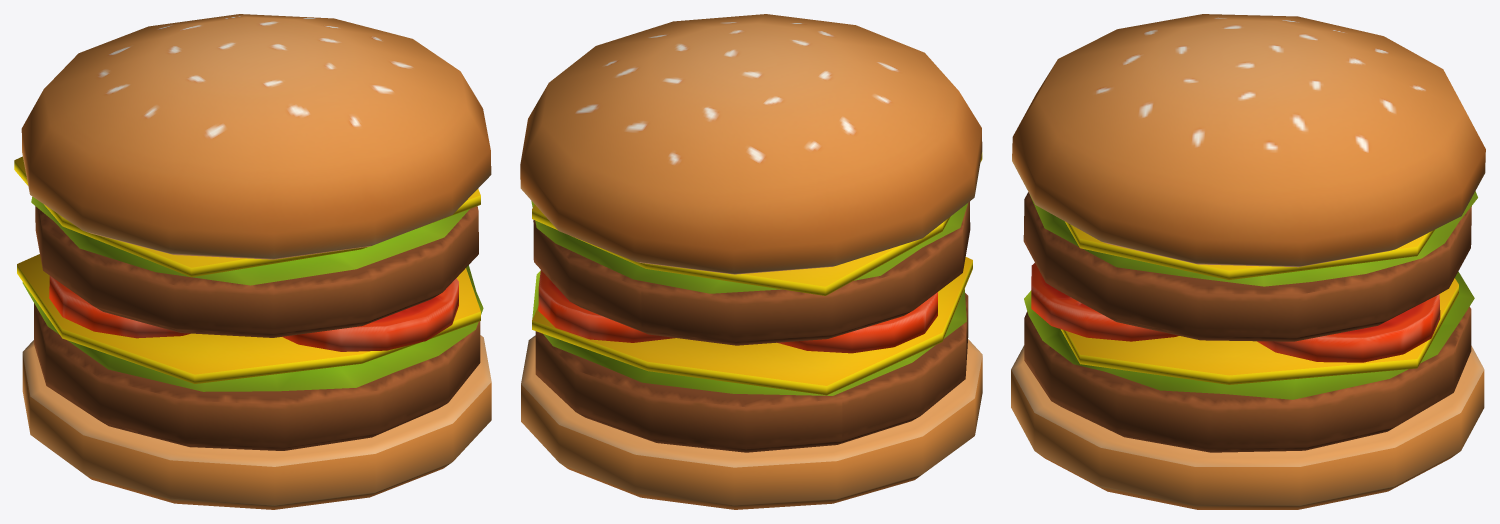
Rendered from Hambuger.FBX.
The picture shows the model from 3 angles, left to right: view 1: azimuth 30°, elevation 25°; view 2: azimuth 150°, elevation 25°; view 3: azimuth 270°, elevation 25°; orthographic projection.
Visible parts, largest first — view 1: Hambuger; view 2: Hambuger; view 3: Hambuger.
Boxes of the visible parts, x1,y1,x2,y2 form: Hambuger: [14, 14, 491, 509]; Hambuger: [520, 14, 982, 509]; Hambuger: [1011, 14, 1485, 509].
Bounding box in the file's own units: 30.58 × 26.53 × 31.46.
